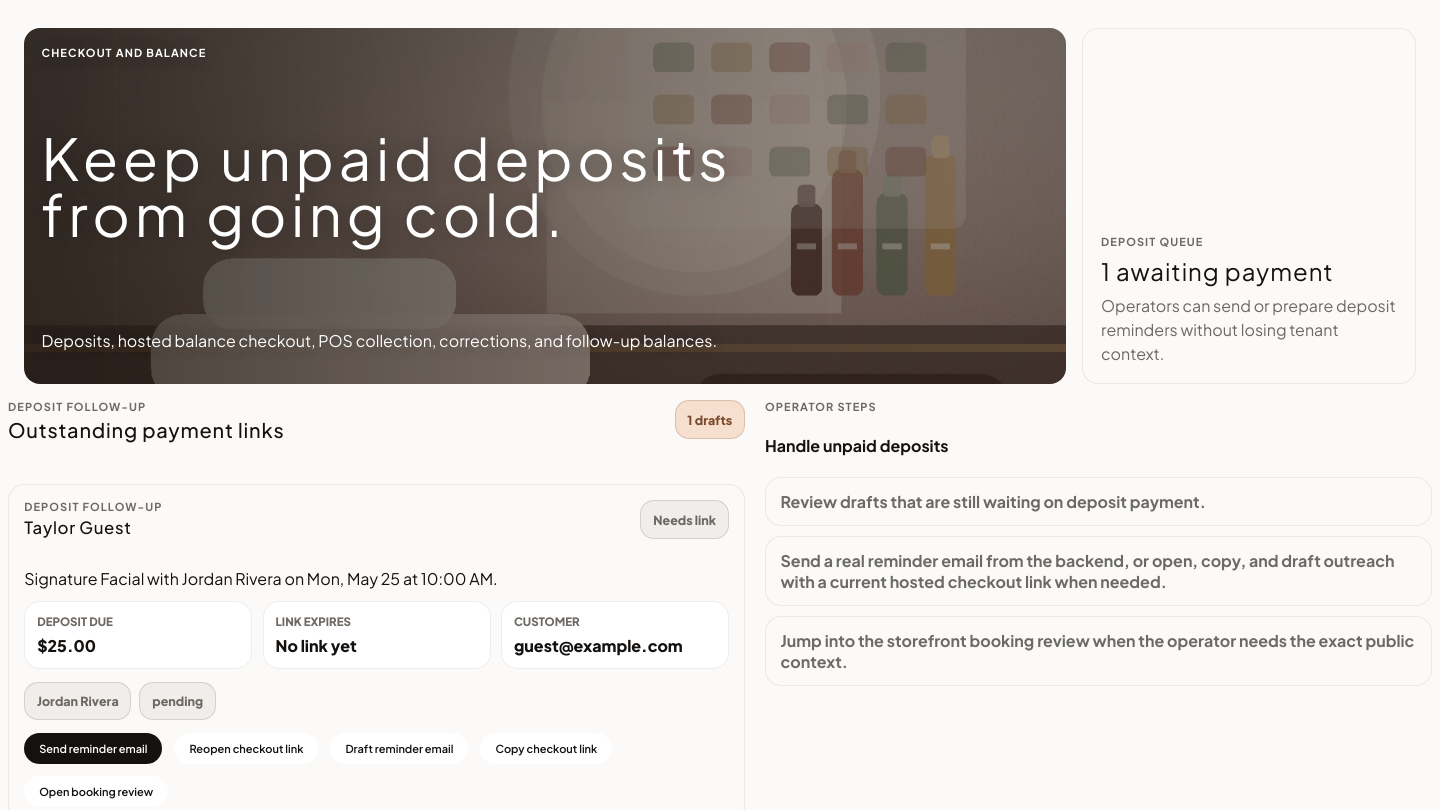
it: PaymentsPage › reopens a deposit checkout link and opens it in a new tab
Click the button "Reopen checkout link" at (246, 748), box [174,733,318,764]
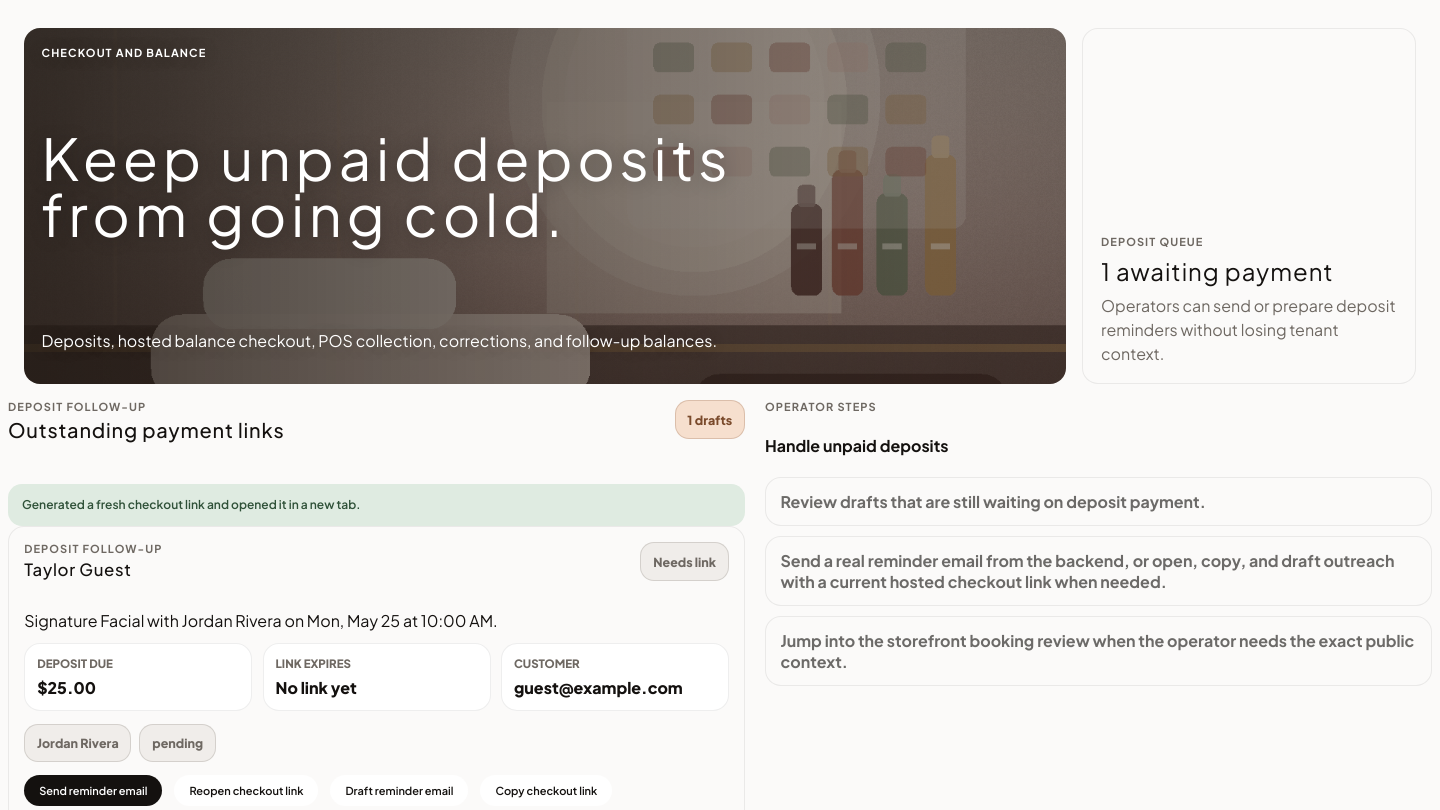
expect the text "Generated a fresh checkout link and opened it in a new tab." is shown: met, box [8,484,745,526]
